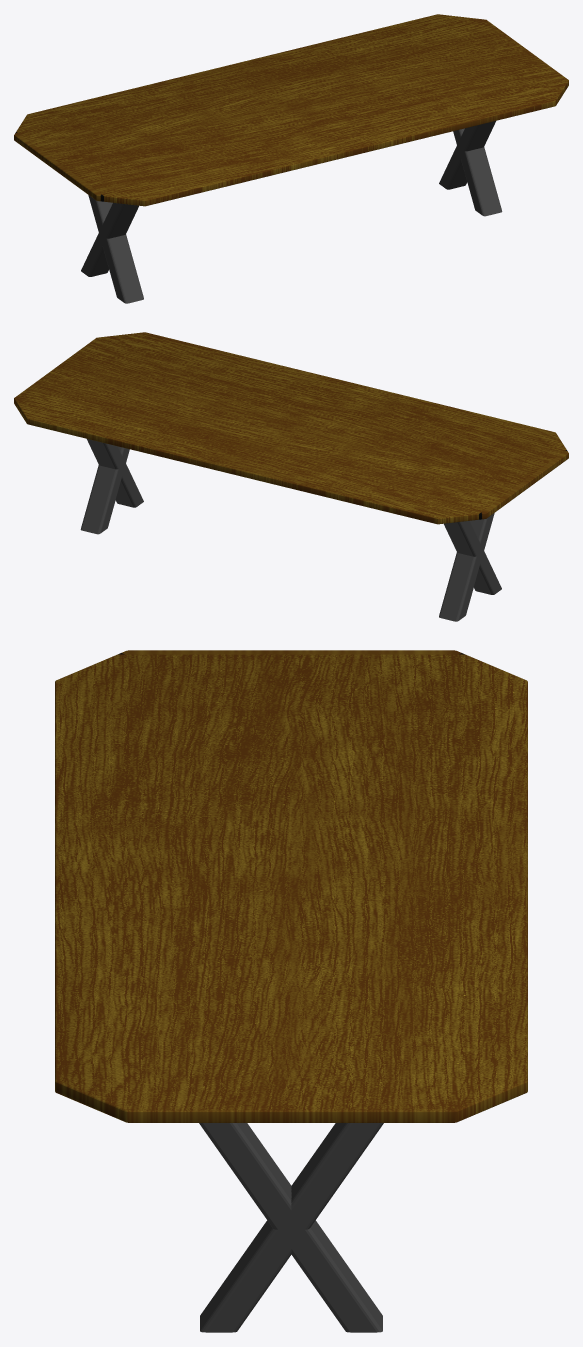
The model's file is tableMagazine.glb.
3 renders of one model, top to bottom at view 1: azimuth 30°, elevation 25°; view 2: azimuth 150°, elevation 25°; view 3: azimuth 270°, elevation 25°, orthographic. The views are drawn at different scales.
Parts seen in each view (by area): view 1: Cube_0, Plane_1; view 2: Cube_0, Plane_1; view 3: Cube_0, Plane_1.
Part boxes in pixels (<box>): Cube_0: <box>14,14,568,206</box>; Plane_1: <box>81,121,502,303</box>; Cube_0: <box>14,332,568,524</box>; Plane_1: <box>80,439,501,621</box>; Cube_0: <box>55,650,527,1122</box>; Plane_1: <box>199,1123,383,1332</box>.
Size of the model in its own units: 1.52 by 0.4131 by 0.6604.
Materials: 2 (1 with a texture image).
